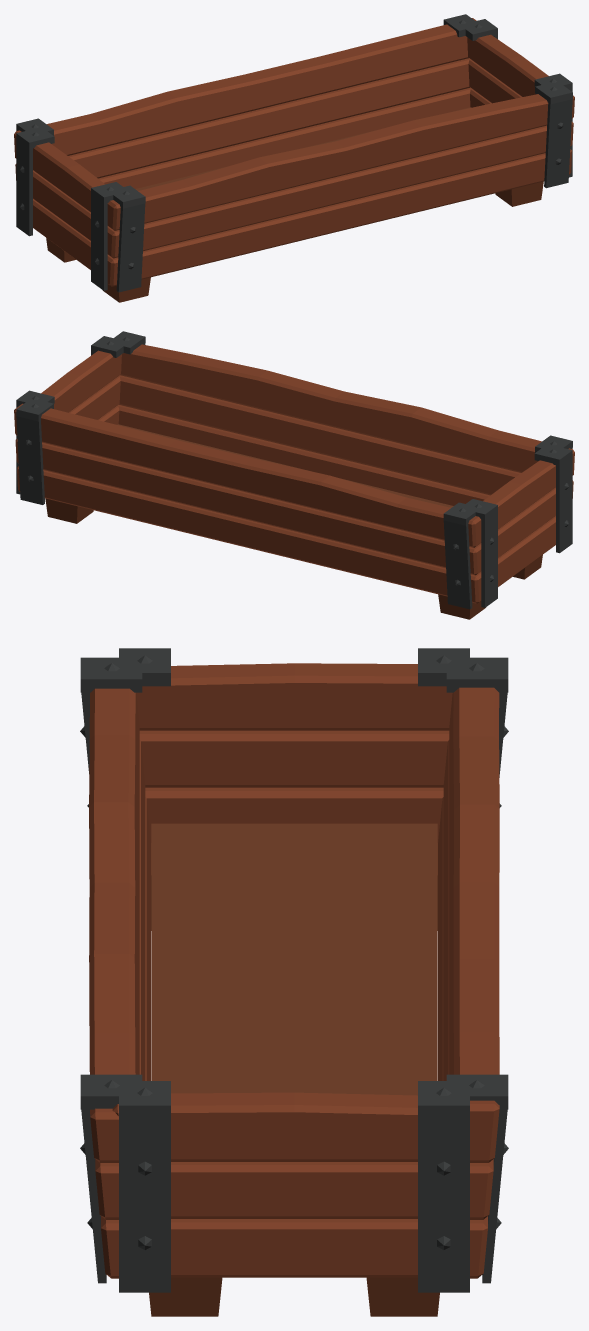
File: water-trough-empty.glb
The picture shows the model from 3 angles, top to bottom: view 1: azimuth 30°, elevation 25°; view 2: azimuth 150°, elevation 25°; view 3: azimuth 270°, elevation 25°; orthographic projection. The views are drawn at different scales.
Parts seen in each view (by area): view 1: walls, straps, feet; view 2: walls, straps, feet, floor; view 3: walls, floor, straps, feet.
Boxes of the visible parts, x1,y1,x2,y2 form: walls: [14, 18, 574, 286]; straps: [16, 14, 572, 292]; feet: [46, 181, 543, 302]; walls: [14, 344, 574, 603]; straps: [16, 331, 572, 609]; feet: [45, 498, 542, 619]; floor: [117, 424, 453, 507]; walls: [89, 663, 499, 1278]; floor: [151, 823, 437, 1095]; straps: [80, 648, 508, 1292]; feet: [149, 843, 439, 1316].
Size of the model in its own units: 1.8 by 0.434 by 0.7047.
